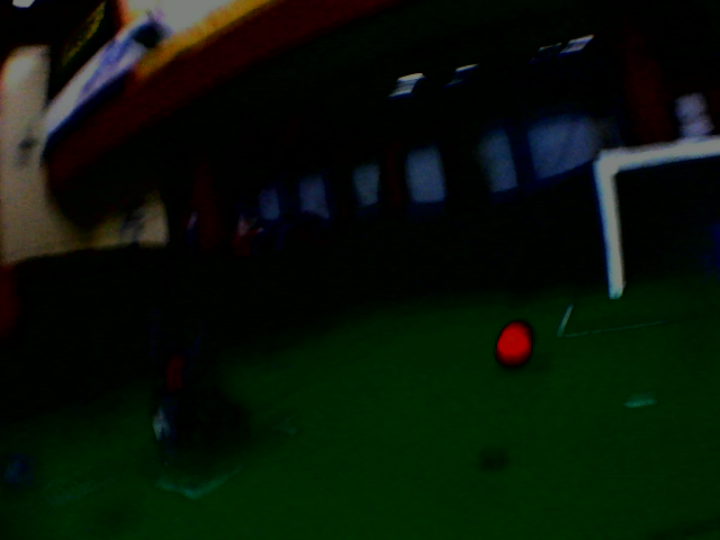bola: (486, 314, 540, 371)
